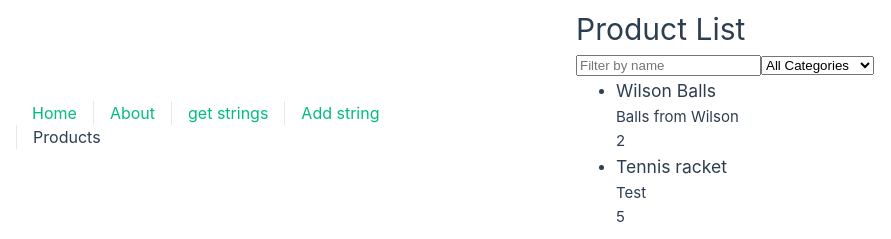
Scenario: Product List › should filter products by category
Select "Tennis Rackets" in the dropdown at [818, 66], box 761,56 -> 874,75
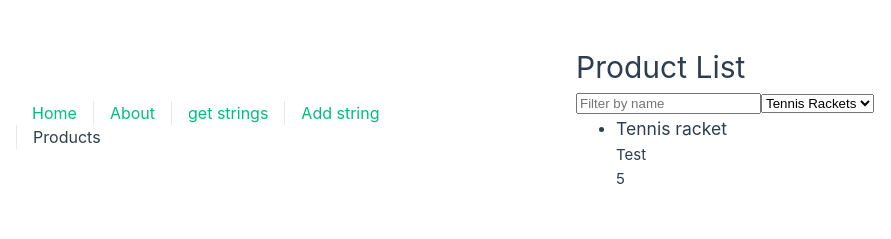
Check: the heading "Tennis racket" is shown, box 616,118 -> 727,139
Check: the number of list items is 1, box 616,118 -> 727,188
